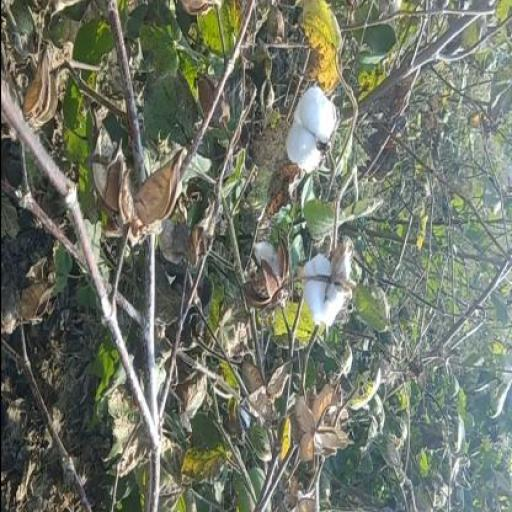cotton_ready: (284, 237, 366, 362), (270, 72, 342, 190)
